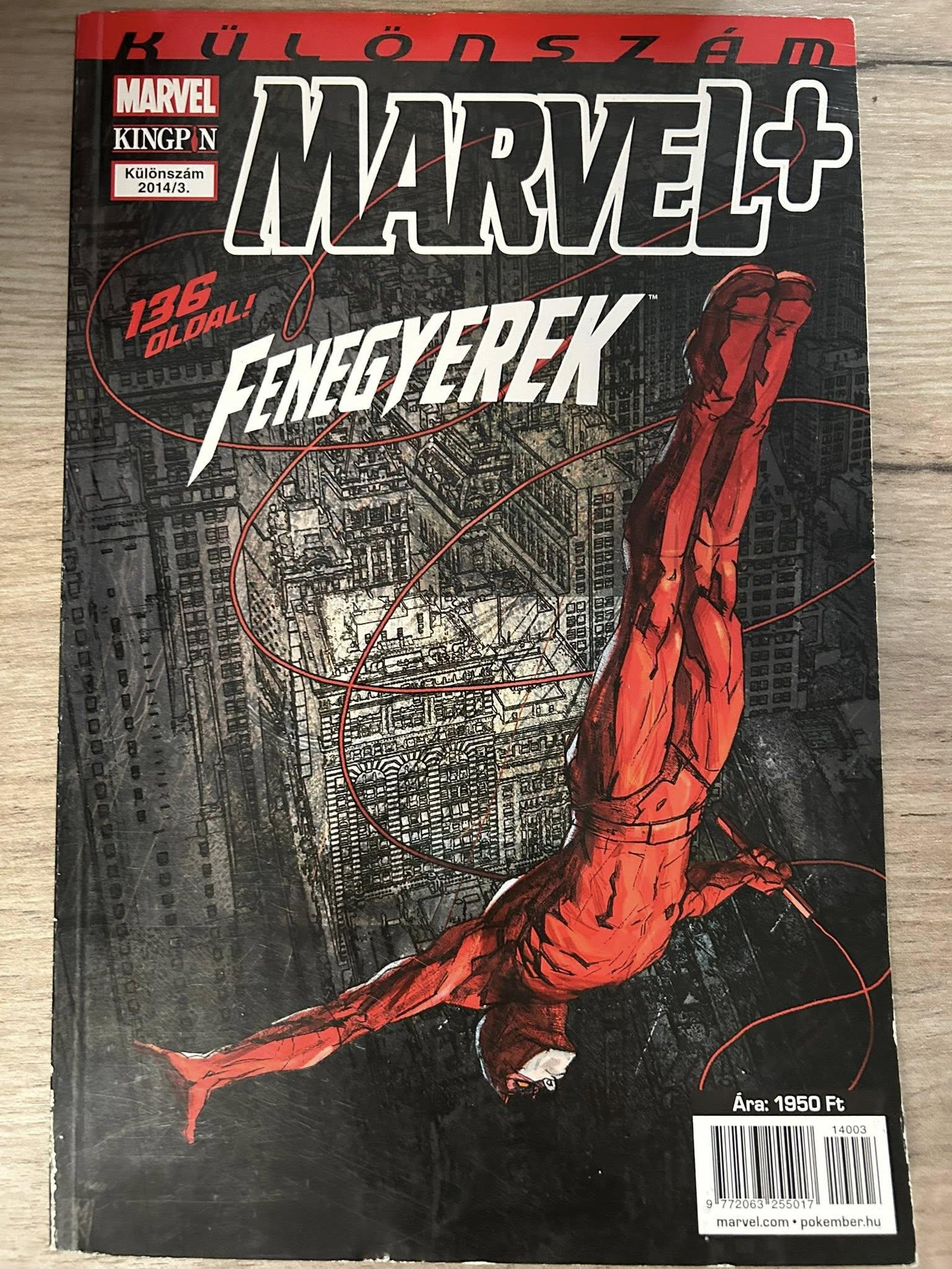comic: (52, 10, 921, 1264)
